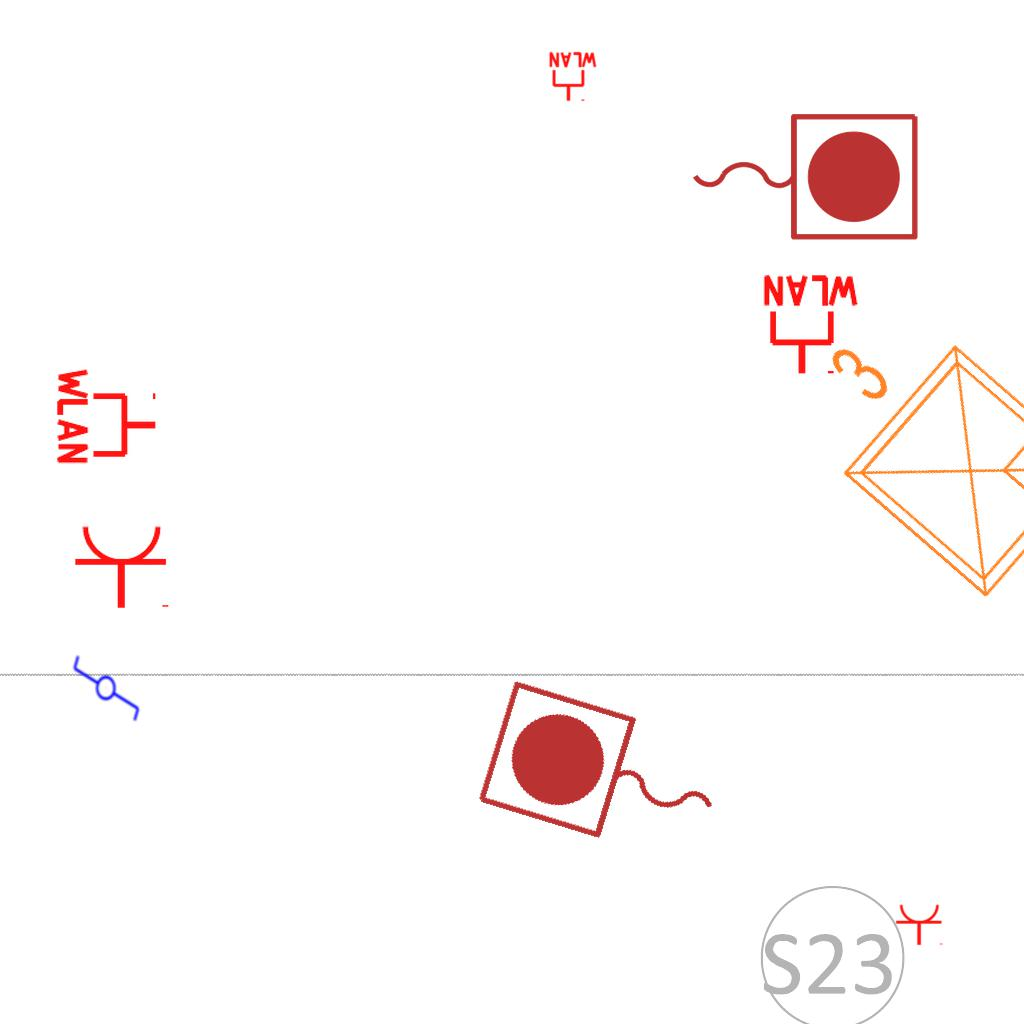Einbaudownlights_LED_Konferenzraeume: (755, 270, 1024, 624)
Schukosteckdose_einfach: (73, 523, 173, 610), (895, 903, 945, 946)
WLAN: (55, 364, 160, 468), (759, 273, 863, 378), (547, 51, 599, 103)
Wechselschalter: (71, 645, 143, 723)
Zugtaster: (467, 671, 743, 881), (682, 103, 926, 247)
